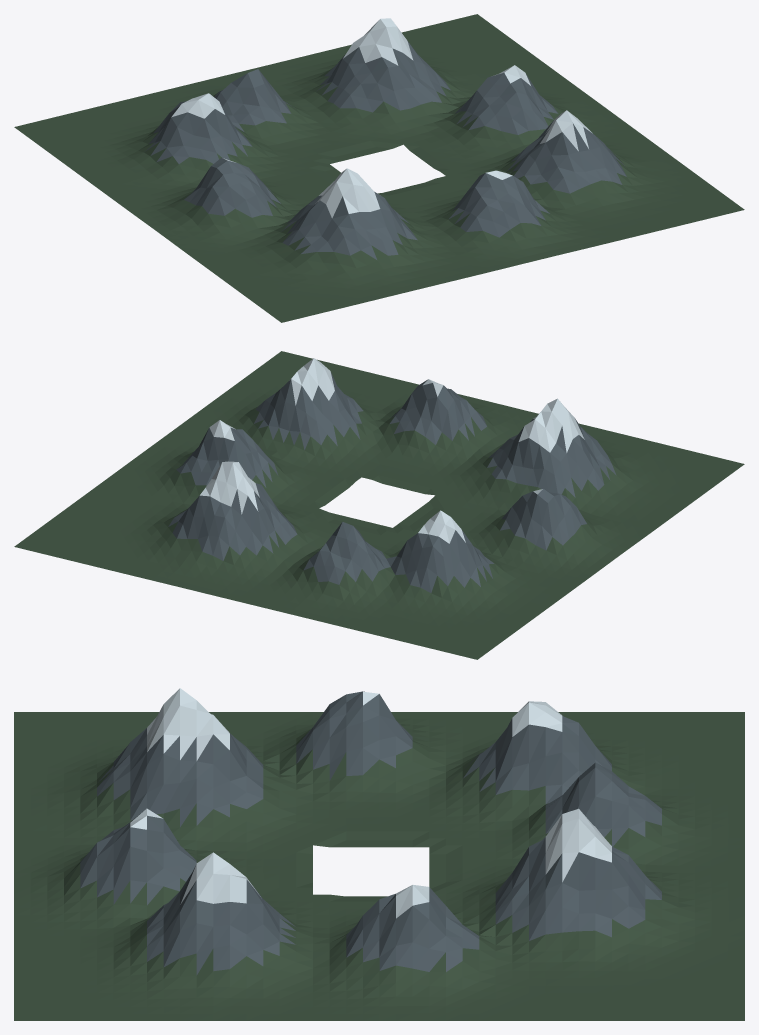
Rendered from mountains.obj.
The picture shows the model from 3 angles, top to bottom: view 1: azimuth 30°, elevation 25°; view 2: azimuth 150°, elevation 25°; view 3: azimuth 270°, elevation 25°; orthographic projection. The views are drawn at different scales.
Bounding box in the file's own units: 352 × 58.54 × 352.
